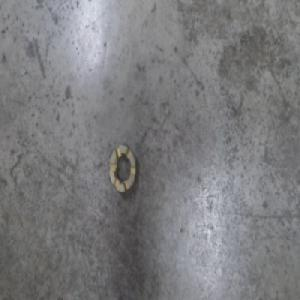Nut: (107, 141, 137, 195)
